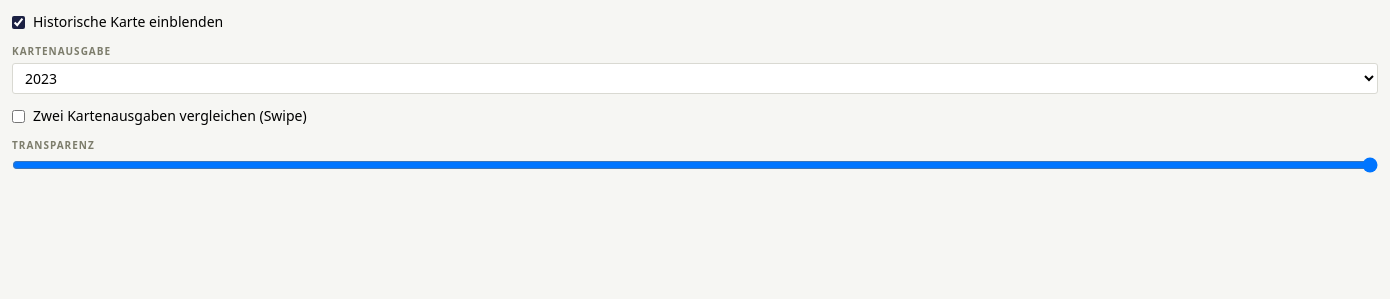
Test: HistoricalMapsPanel › enables compare mode and reveals the compare edition and swipe controls
Click the checkbox named "Vergleichsmodus ein-/ausschalten" at coordinates (18, 116), box 12,110 -> 25,122
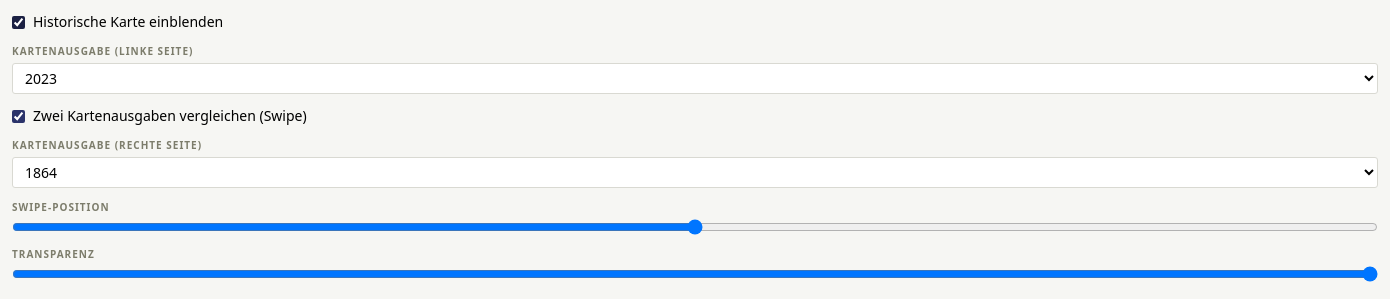
Check: the dropdown named "Vergleichs-Kartenausgabe" is shown, box 12,157 -> 1378,188
Check: the slider labelled "Swipe-Position" is shown, box 12,219 -> 1378,235
